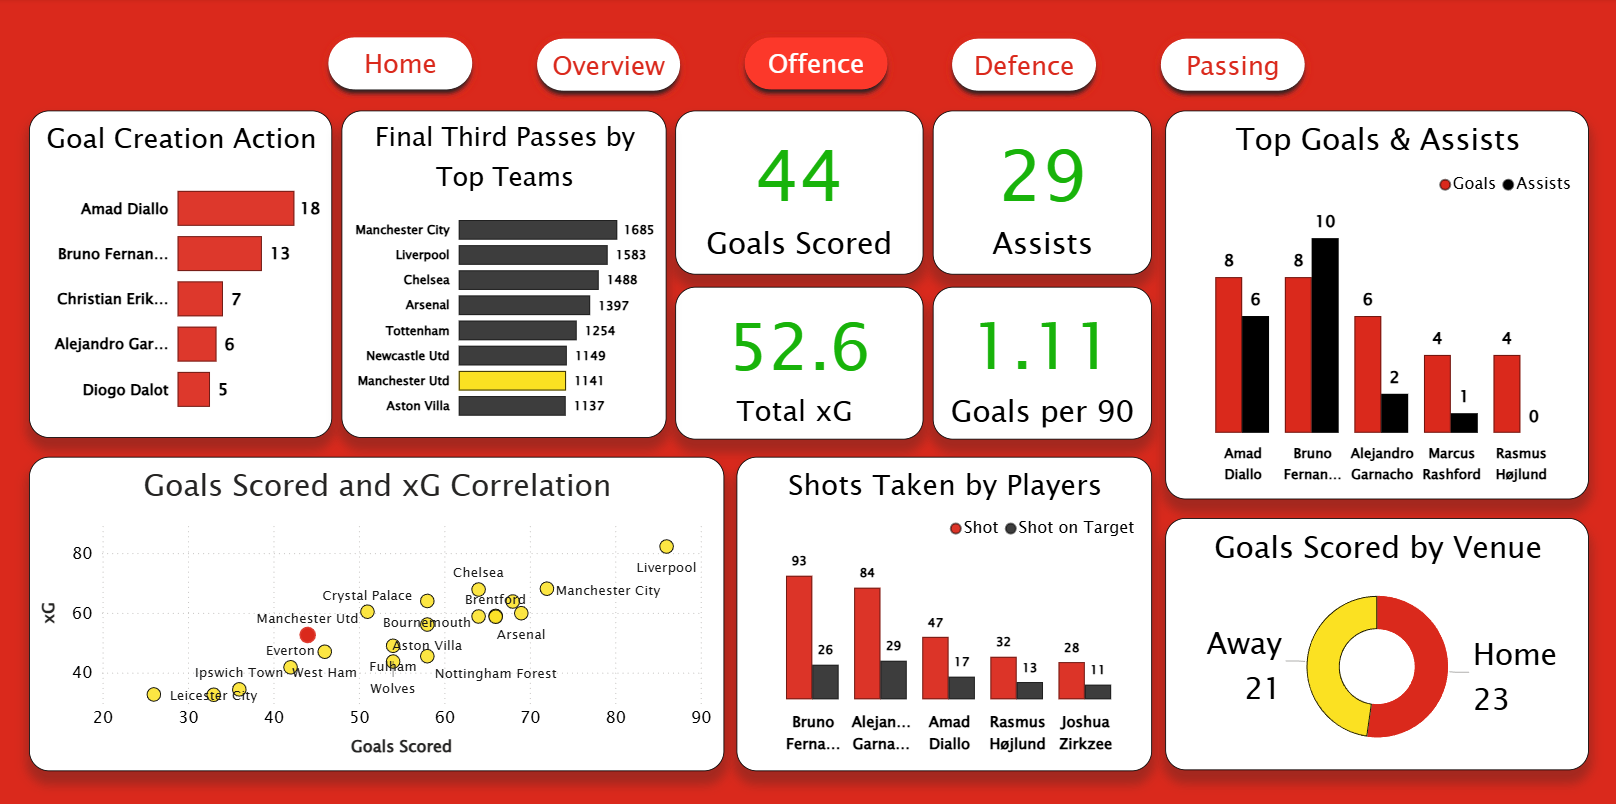

The dashboard page shown, as its layout file describes it:
{"tool":"powerbi","page":{"name":"Offence","canvas":[1600,800],"ordinal":2},"visuals":[{"type":"card","fields":{"Values":["Sum(pl squad overall 24-25.Goals_For)"]},"box":[668.9,111.3,245.3,162.2],"z":0},{"type":"actionButton","box":[316.4,30,160.9,70],"z":1000},{"type":"actionButton","box":[728.6,30.2,160,70],"z":2000},{"type":"actionButton","box":[934.2,30.4,160.9,70],"z":3000},{"type":"actionButton","box":[522.9,30.8,160,70],"z":4000},{"type":"actionButton","box":[1140.8,30.6,160.9,70],"z":5000},{"type":"clusteredColumnChart","title":"Top Goals & Assists","fields":{"Category":["pl utd overall stats 24-25.Player Name"],"Y":["Sum(pl utd overall stats 24-25.Goals)","Sum(pl utd overall stats 24-25.Assists)"]},"box":[1154.6,111.8,419.4,384.9],"z":6000},{"type":"donutChart","title":"Goals Scored by Venue","fields":{"Y":["Sum(pl utd goal and shot creation stats 24-25.Goals For)"],"Category":["pl utd goal and shot creation stats 24-25.Venue"]},"box":[1154.2,514.7,419.6,249.3],"z":7000},{"type":"card","fields":{"Values":["Sum(pl squad stats 24-25.Assists)"]},"box":[923.6,111.3,217.2,162.2],"z":8000},{"type":"card","fields":{"Values":["Sum(pl squad stats 24-25.Goals per 90)"]},"box":[923.6,285.5,217.2,151.5],"z":9000},{"type":"card","fields":{"Values":["Sum(pl squad stats 24-25.xG)"]},"box":[668.9,285.5,245.3,151.5],"z":10000},{"type":"barChart","title":"Goal Creation Action","fields":{"Category":["pl utd goal and shot creation 2 , 24-25.Player"],"Y":["Sum(pl utd goal and shot creation 2 , 24-25.GCA_Goal_Creating_Actions)"]},"box":[29.5,111.3,300.3,324.4],"z":11000},{"type":"clusteredColumnChart","title":"Shots Taken by Players","fields":{"Category":["pl utd shooting 24-25.Player"],"Y":["Sum(pl utd shooting 24-25.Standard_Shots)","Sum(pl utd shooting 24-25.Standard_Shots_On_Target)"]},"box":[729.2,454.4,411.5,311],"z":12000},{"type":"barChart","title":"Final Third Passes by Top Teams","fields":{"Category":["pl passing 24-25.Squad"],"Y":["Sum(pl passing 24-25.One_Third_Passes)"]},"box":[339.1,111.3,321.7,324.4],"z":13000},{"type":"scatterChart","title":"Goals Scored and xG Correlation","fields":{"X":["Sum(pl squad overall 24-25.Goals_For)"],"Y":["Sum(pl squad overall 24-25.Expected_Goals_xG)"],"Category":["pl squad overall 24-25.Squad"]},"box":[29.5,454.4,687.7,311],"z":14000}]}

Visuals, with their boxes in screenshot pixels (x1, y1, x2, y2), scaled from the page's 1600x800 canvas onto the 1616x804 screenshot:
card - Sum(pl squad overall 24-25.Goals_For): bbox=[676, 112, 923, 275]
actionButton: bbox=[320, 30, 482, 100]
actionButton: bbox=[736, 30, 897, 101]
actionButton: bbox=[944, 31, 1106, 101]
actionButton: bbox=[528, 31, 690, 101]
actionButton: bbox=[1152, 31, 1315, 101]
"Top Goals & Assists" clusteredColumnChart: bbox=[1166, 112, 1590, 499]
"Goals Scored by Venue" donutChart: bbox=[1166, 517, 1590, 768]
card - Sum(pl squad stats 24-25.Assists): bbox=[933, 112, 1152, 275]
card - Sum(pl squad stats 24-25.Goals per 90): bbox=[933, 287, 1152, 439]
card - Sum(pl squad stats 24-25.xG): bbox=[676, 287, 923, 439]
"Goal Creation Action" barChart: bbox=[30, 112, 333, 438]
"Shots Taken by Players" clusteredColumnChart: bbox=[736, 457, 1152, 769]
"Final Third Passes by Top Teams" barChart: bbox=[342, 112, 667, 438]
"Goals Scored and xG Correlation" scatterChart: bbox=[30, 457, 724, 769]
